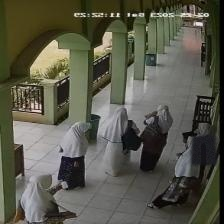Cadar_Niqab: (191, 121, 216, 164)
